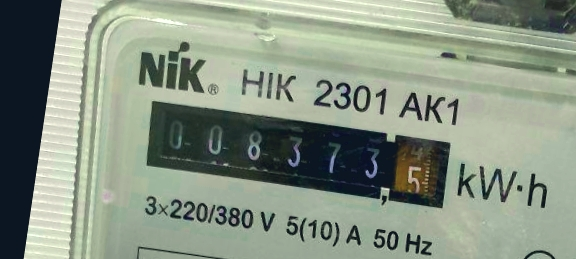0: (163, 115, 188, 153), (203, 120, 227, 158)
3: (358, 143, 385, 182), (281, 131, 307, 171)
4: (406, 141, 427, 164)
5: (403, 162, 426, 195)
7: (320, 136, 344, 177)
8: (241, 125, 267, 164)
screen: (135, 91, 461, 223)
